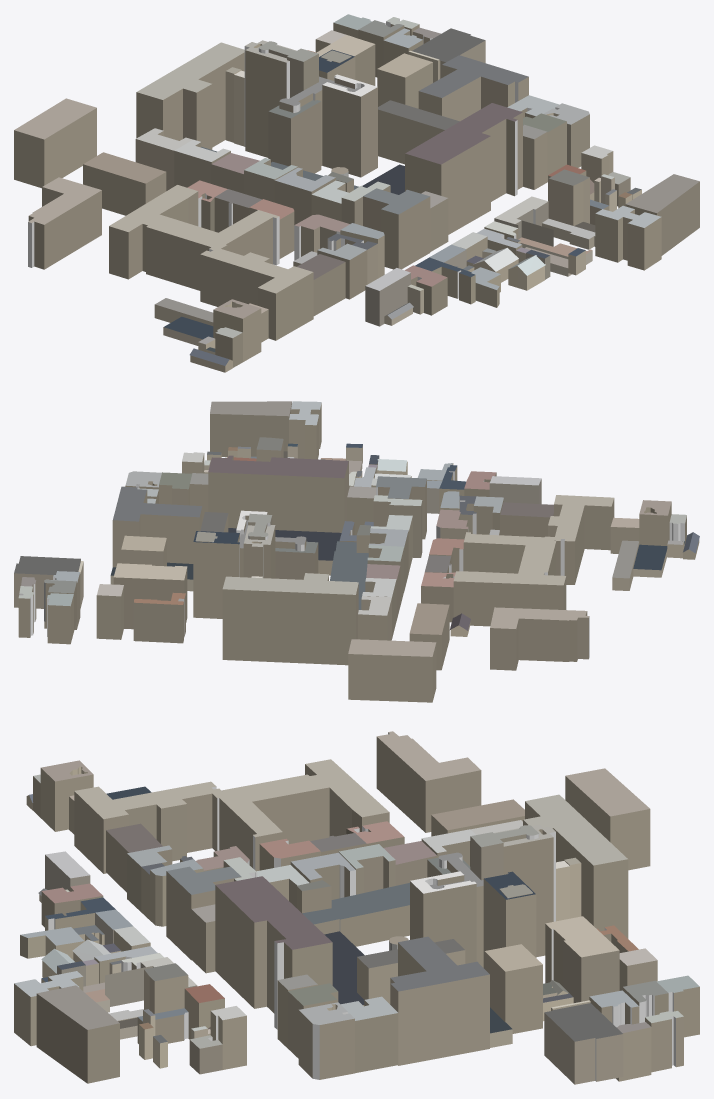
3 views of the same model, one above another, from view 1: azimuth 30°, elevation 25°; view 2: azimuth 150°, elevation 25°; view 3: azimuth 270°, elevation 25° (orthographic). The views are drawn at different scales.
Visible parts, largest first — view 1: tuile; view 2: tuile; view 3: tuile.
Part boxes in pixels (<box>): tuile: <box>14,14,699,372</box>; tuile: <box>14,401,699,702</box>; tuile: <box>14,731,699,1084</box>.
Size of the model in its own units: 281 by 55.5 by 267.
